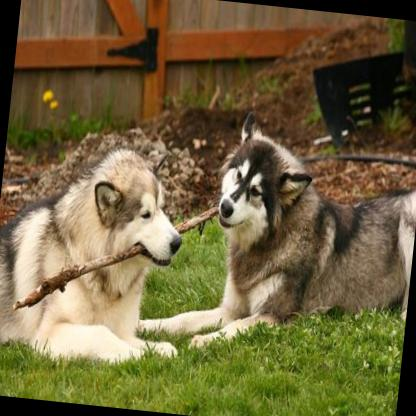malamute: (132, 97, 416, 369), (0, 129, 196, 374)
